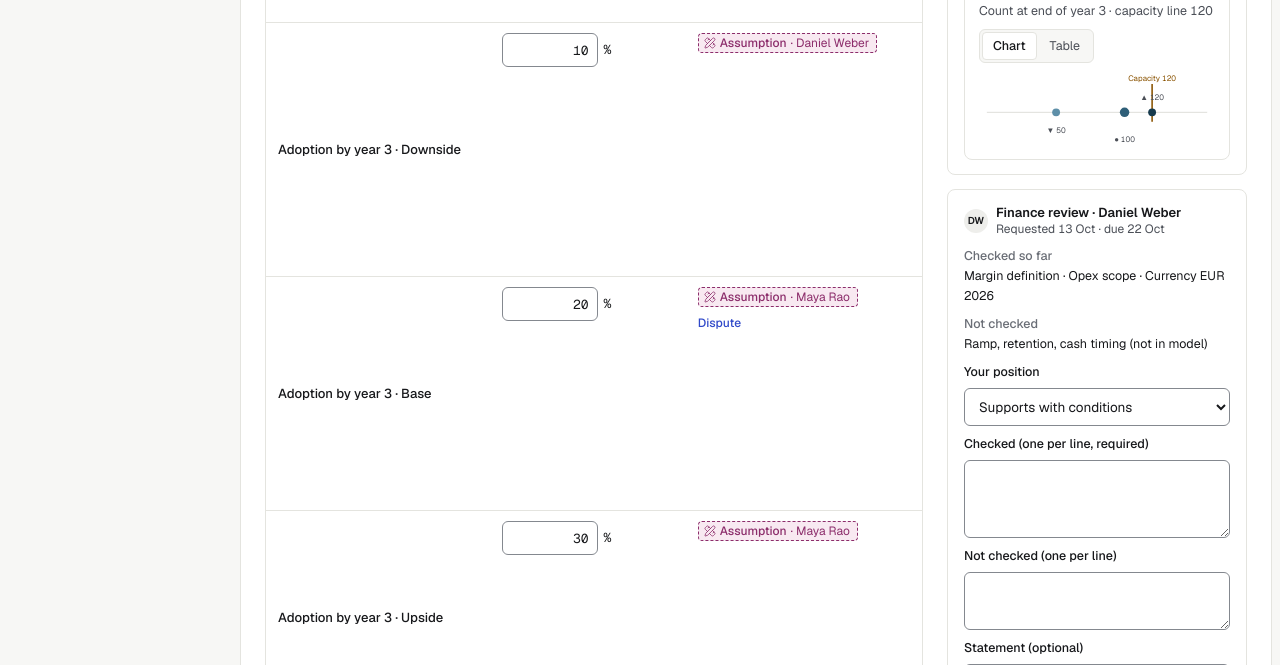
Test: S08 Economics › Daniel disputes 20% adoption with a 10% proposal; the thread shows 'Disputed by Daniel Weber'
(page scrolled)
Click the button "Dispute" at (720, 323), box [698,313,741,333]
(page scrolled)
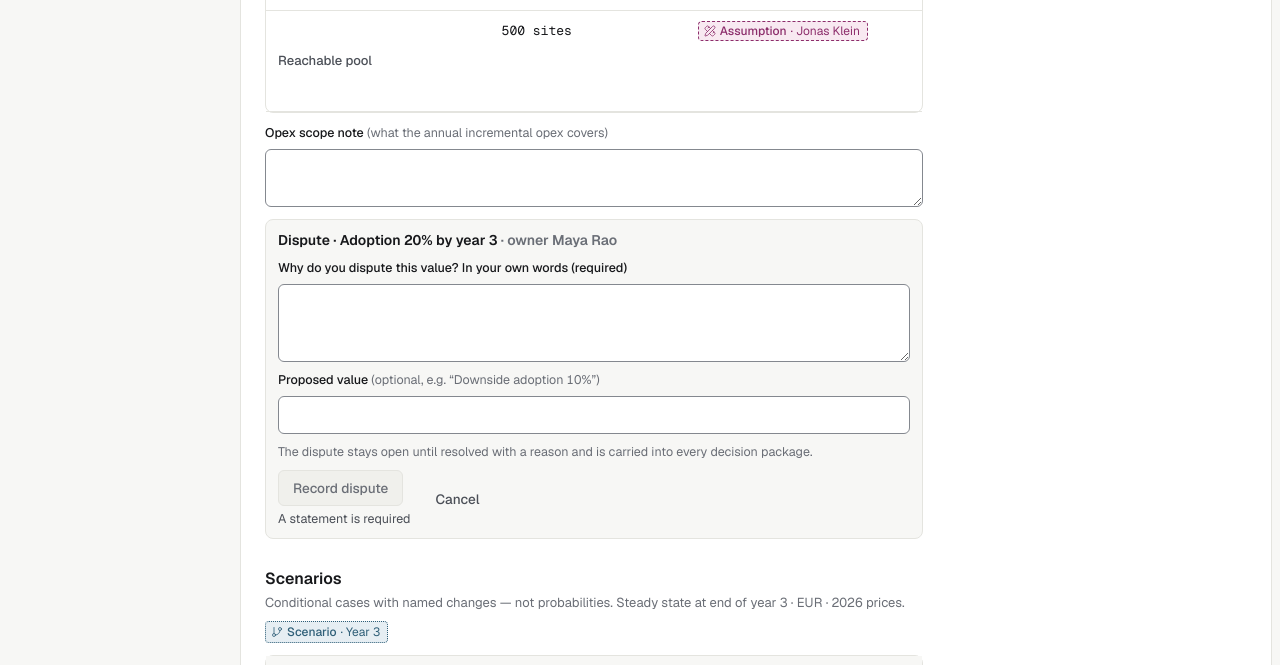
Type "I do not see comparable evidence for 20% adoption in this segment." into the text box labelled "Why do you dispute this value? In your own words (required)" at (594, 323), box [278,284,910,362]
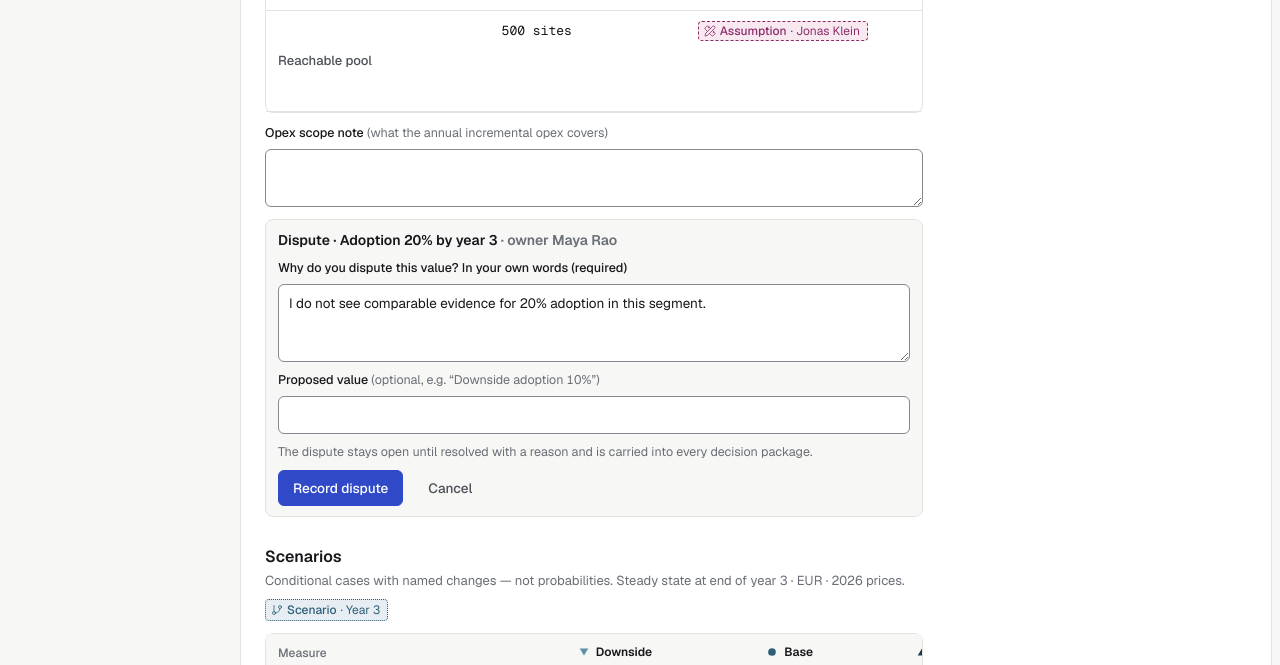
Type "Downside adoption 10%" into the field labelled "Proposed value (optional, e.g. “Downside adoption 10%”)" at (594, 415), box [278,396,910,434]
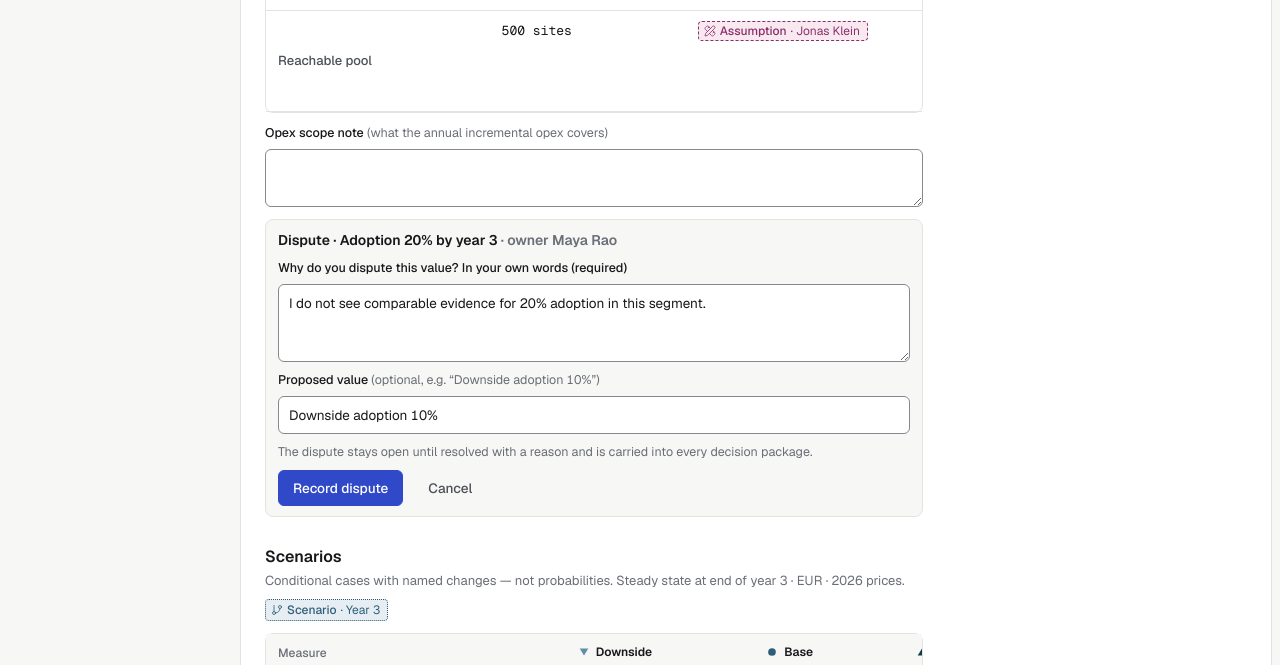
Click the button "Record dispute" at (341, 488), box [278,470,403,506]
(page scrolled)
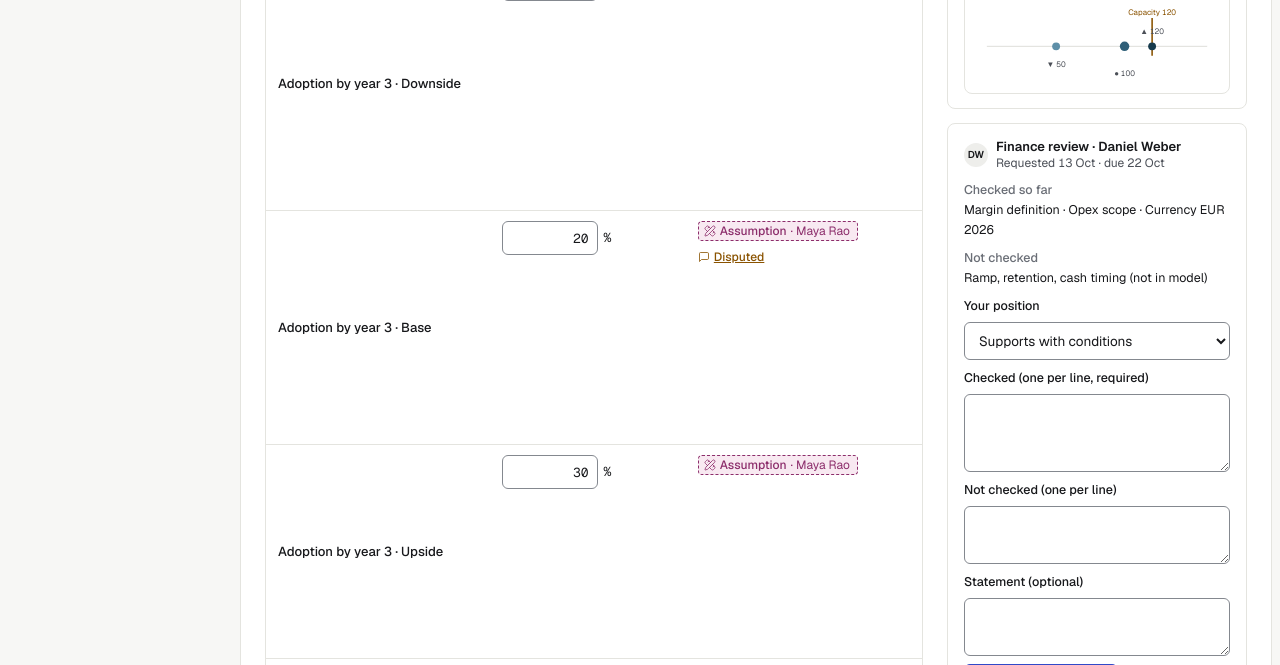
Check: the link "Disputed" is shown, box [698,247,764,267]
